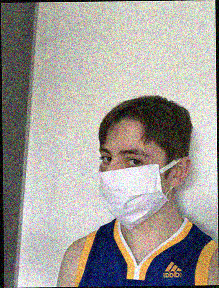with_mask: (97, 141, 168, 231)
